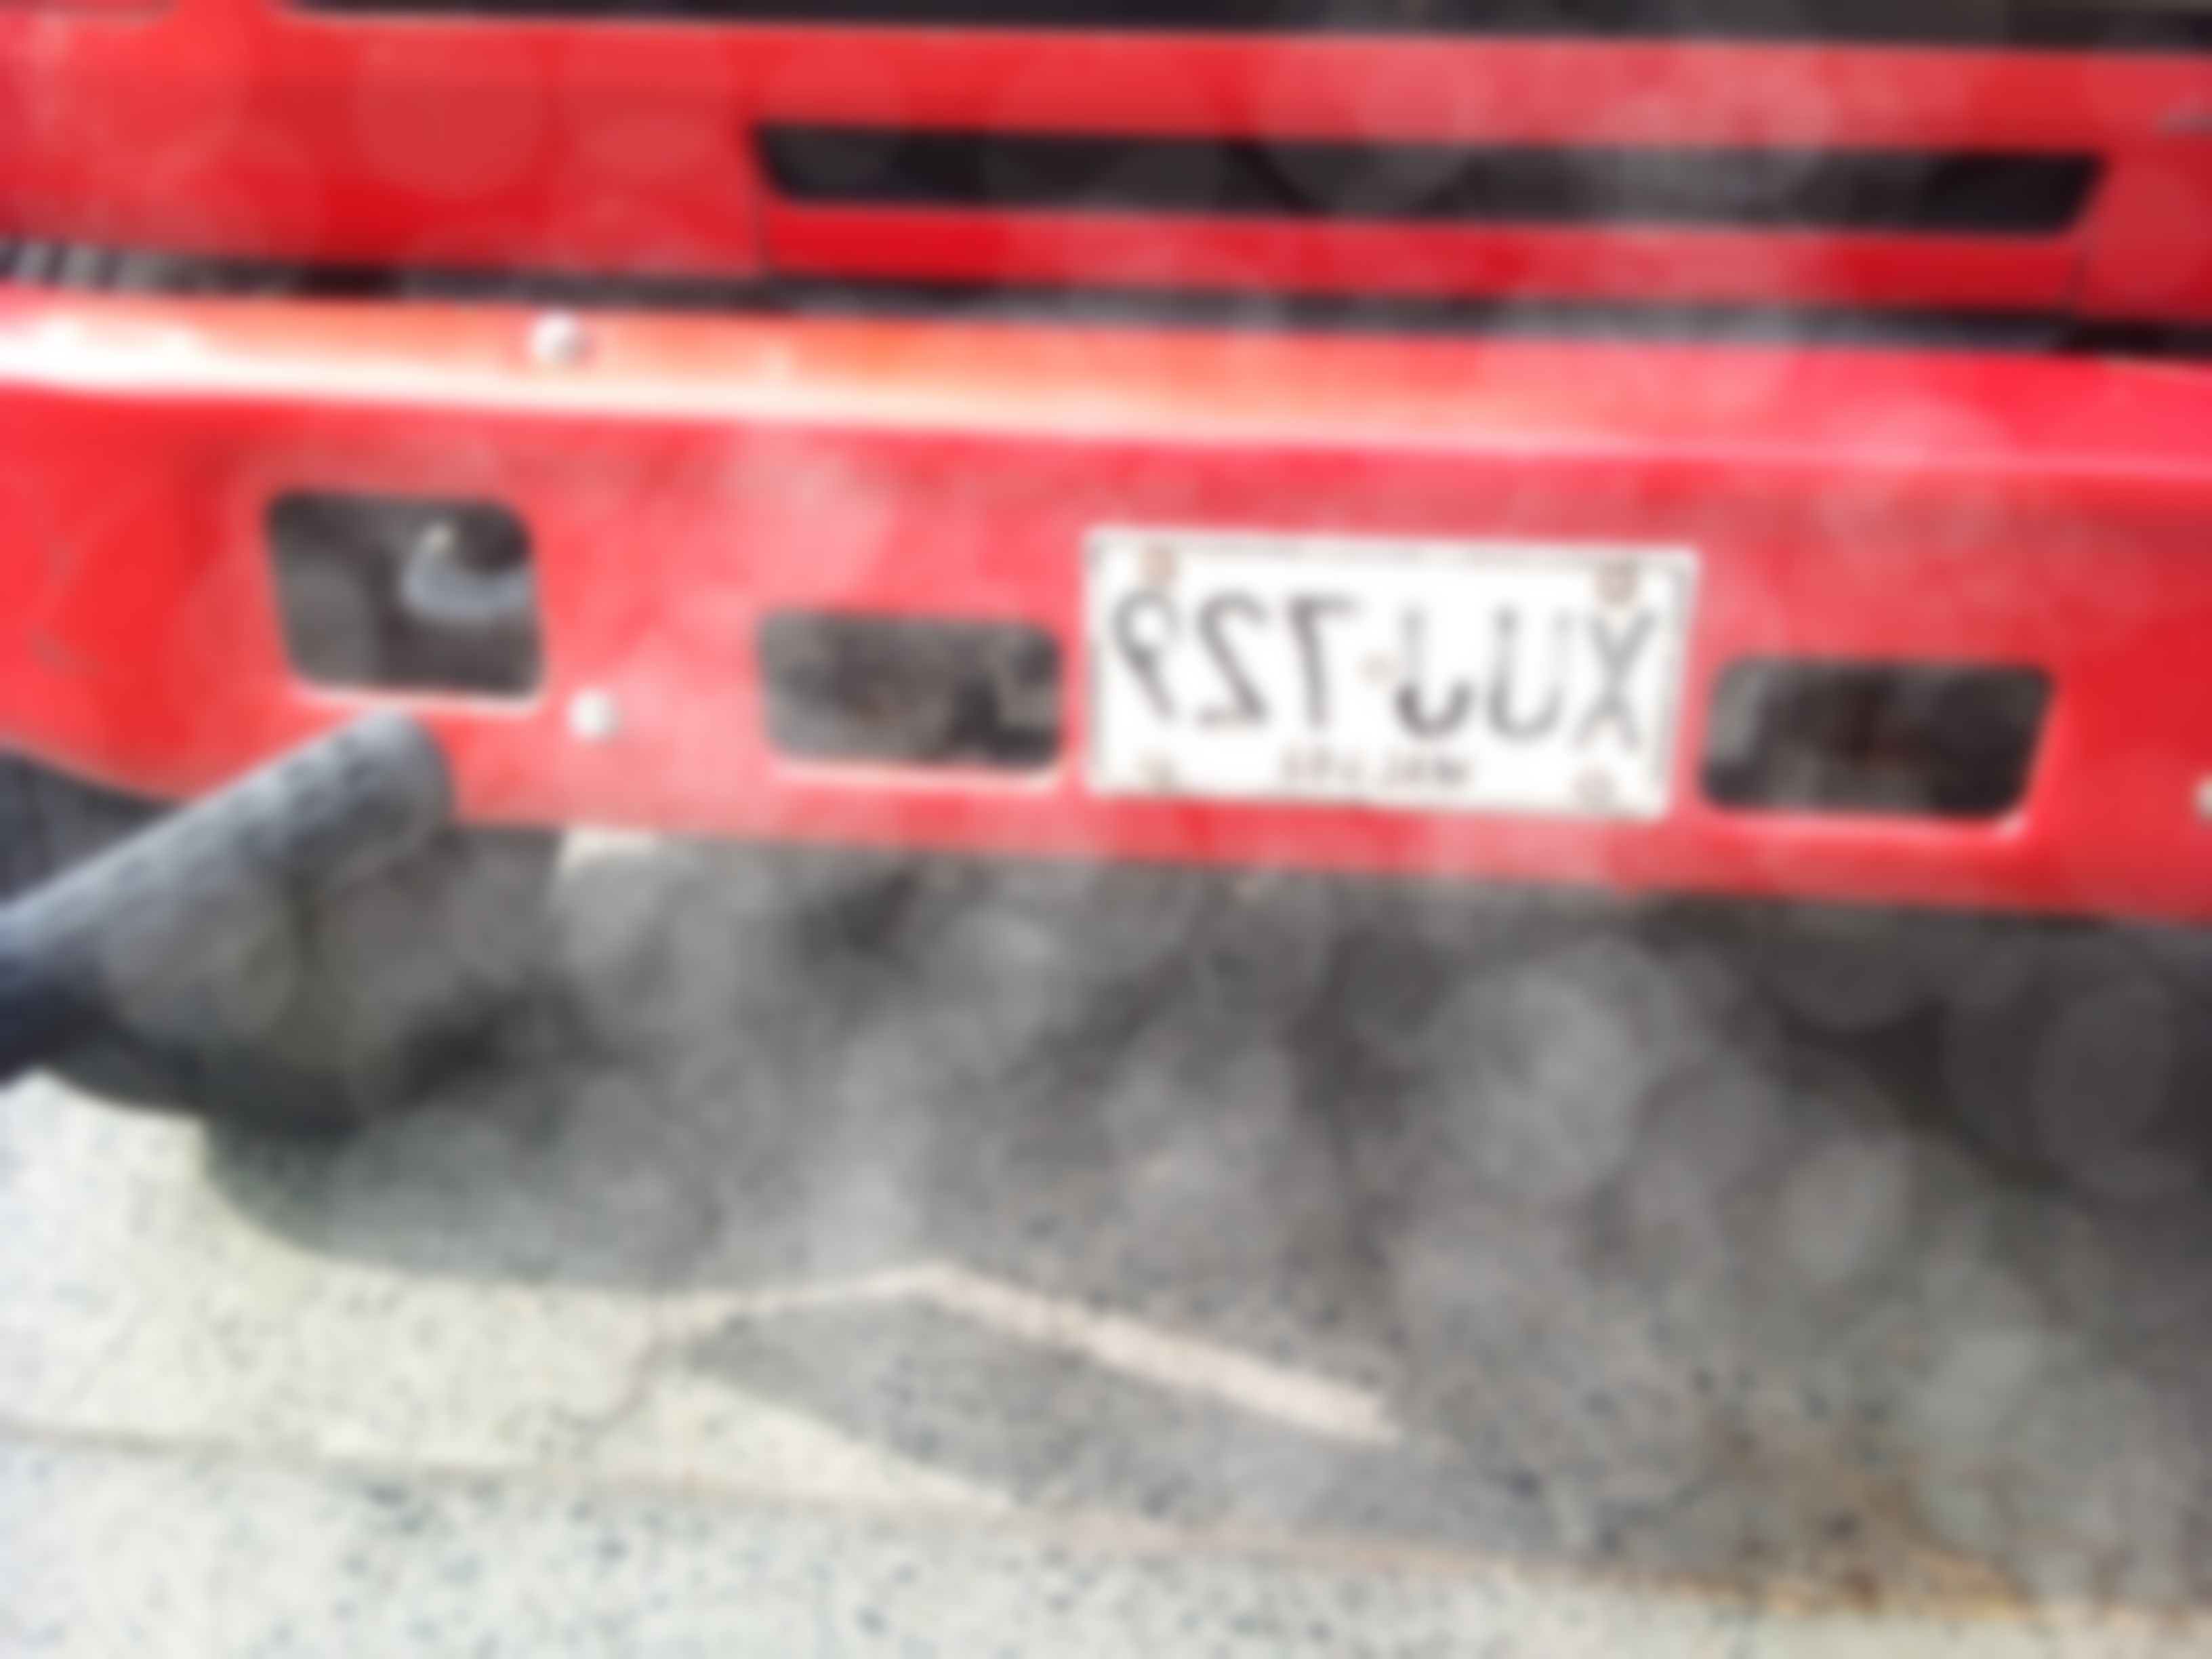placas: (1071, 516, 1708, 831)
